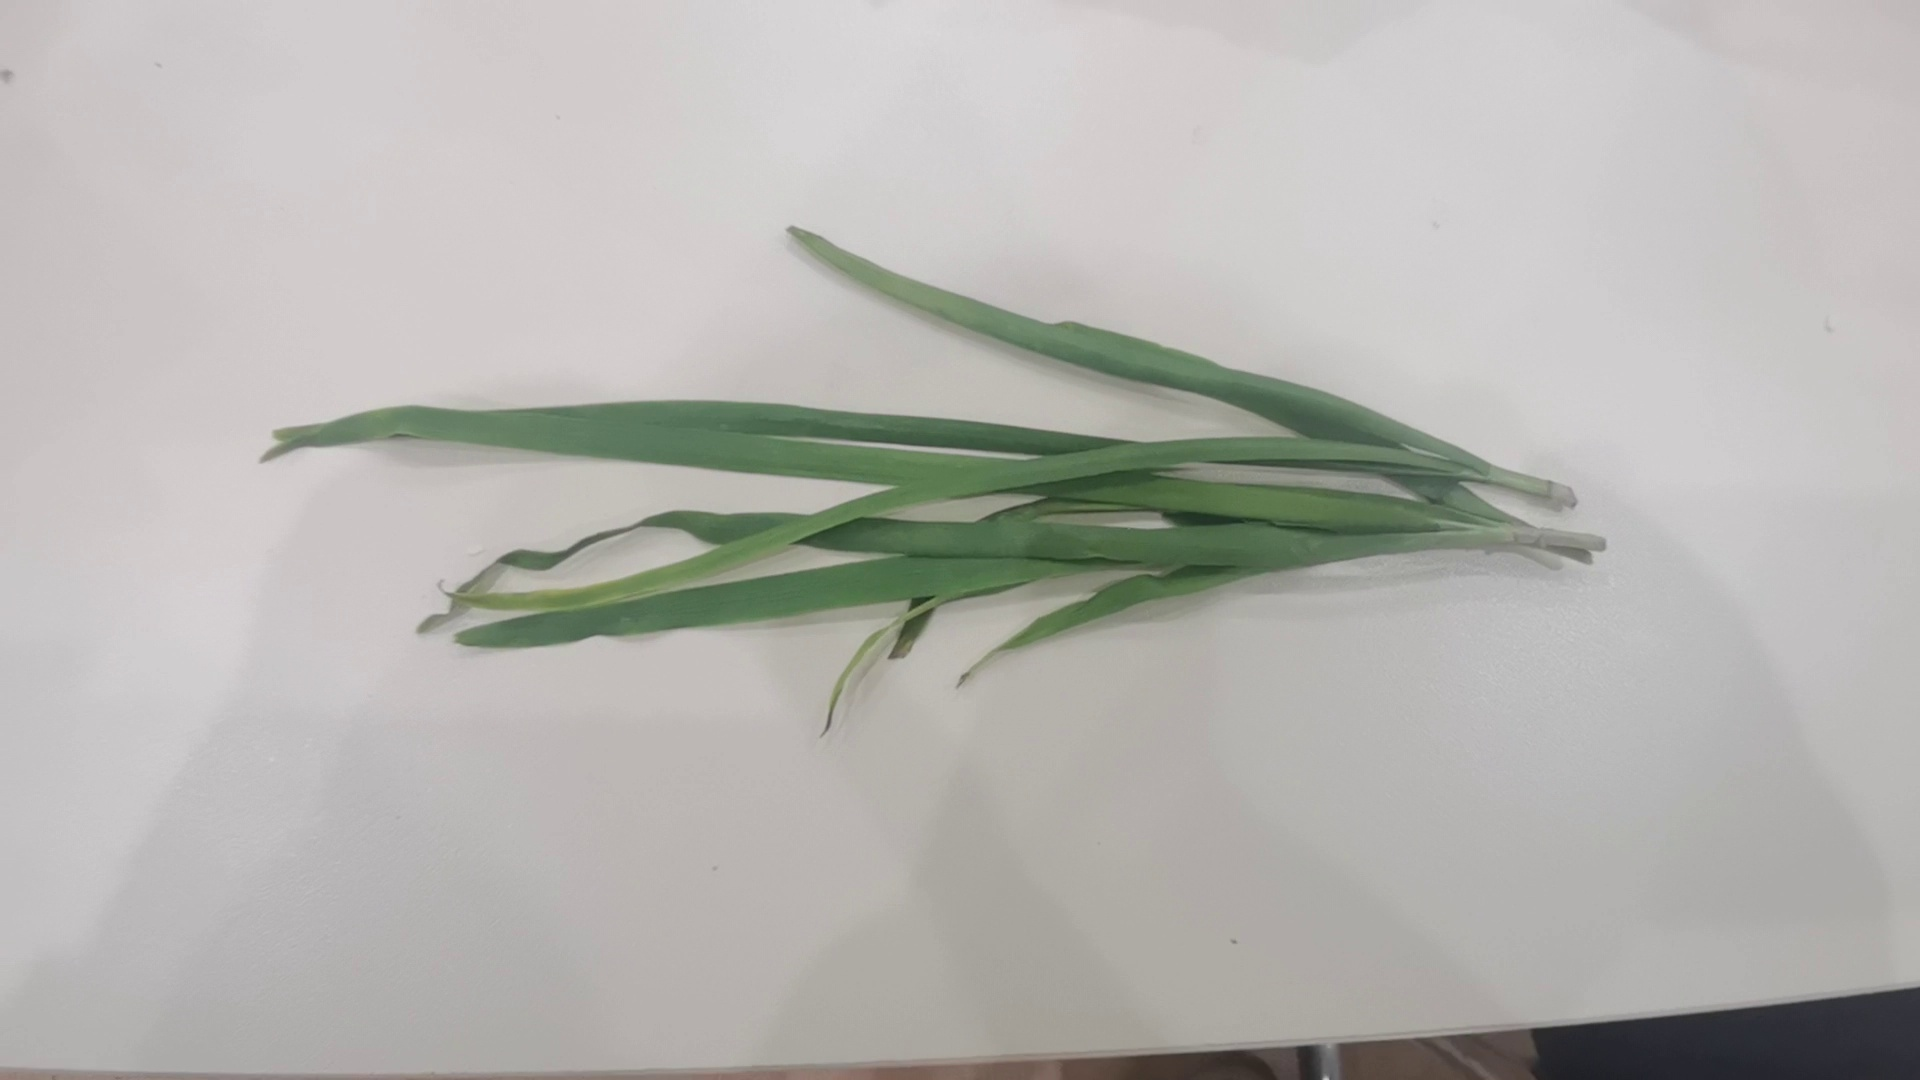chives: (220, 204, 1638, 765)
